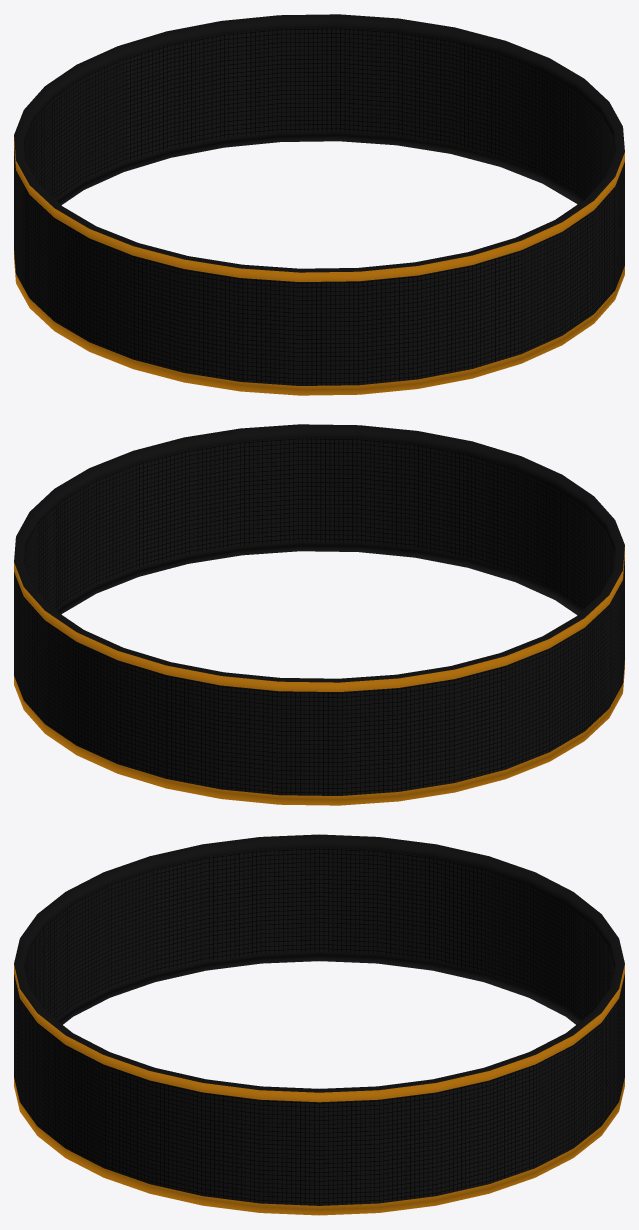
The model's file is screen-moon.glb.
3 views of the same model, one above another, from view 1: azimuth 30°, elevation 25°; view 2: azimuth 150°, elevation 25°; view 3: azimuth 270°, elevation 25° (orthographic).
Parts seen in each view (by area): view 1: Cylinder.018; view 2: Cylinder.018; view 3: Cylinder.018.
Boxes of the visible parts, x1,y1,x2,y2 form: Cylinder.018: (14,14,624,395); Cylinder.018: (14,424,624,805); Cylinder.018: (14,834,624,1215).
Size of the model in its own units: 17.86 by 3.96 by 17.86.
2 materials, 2 textured.
